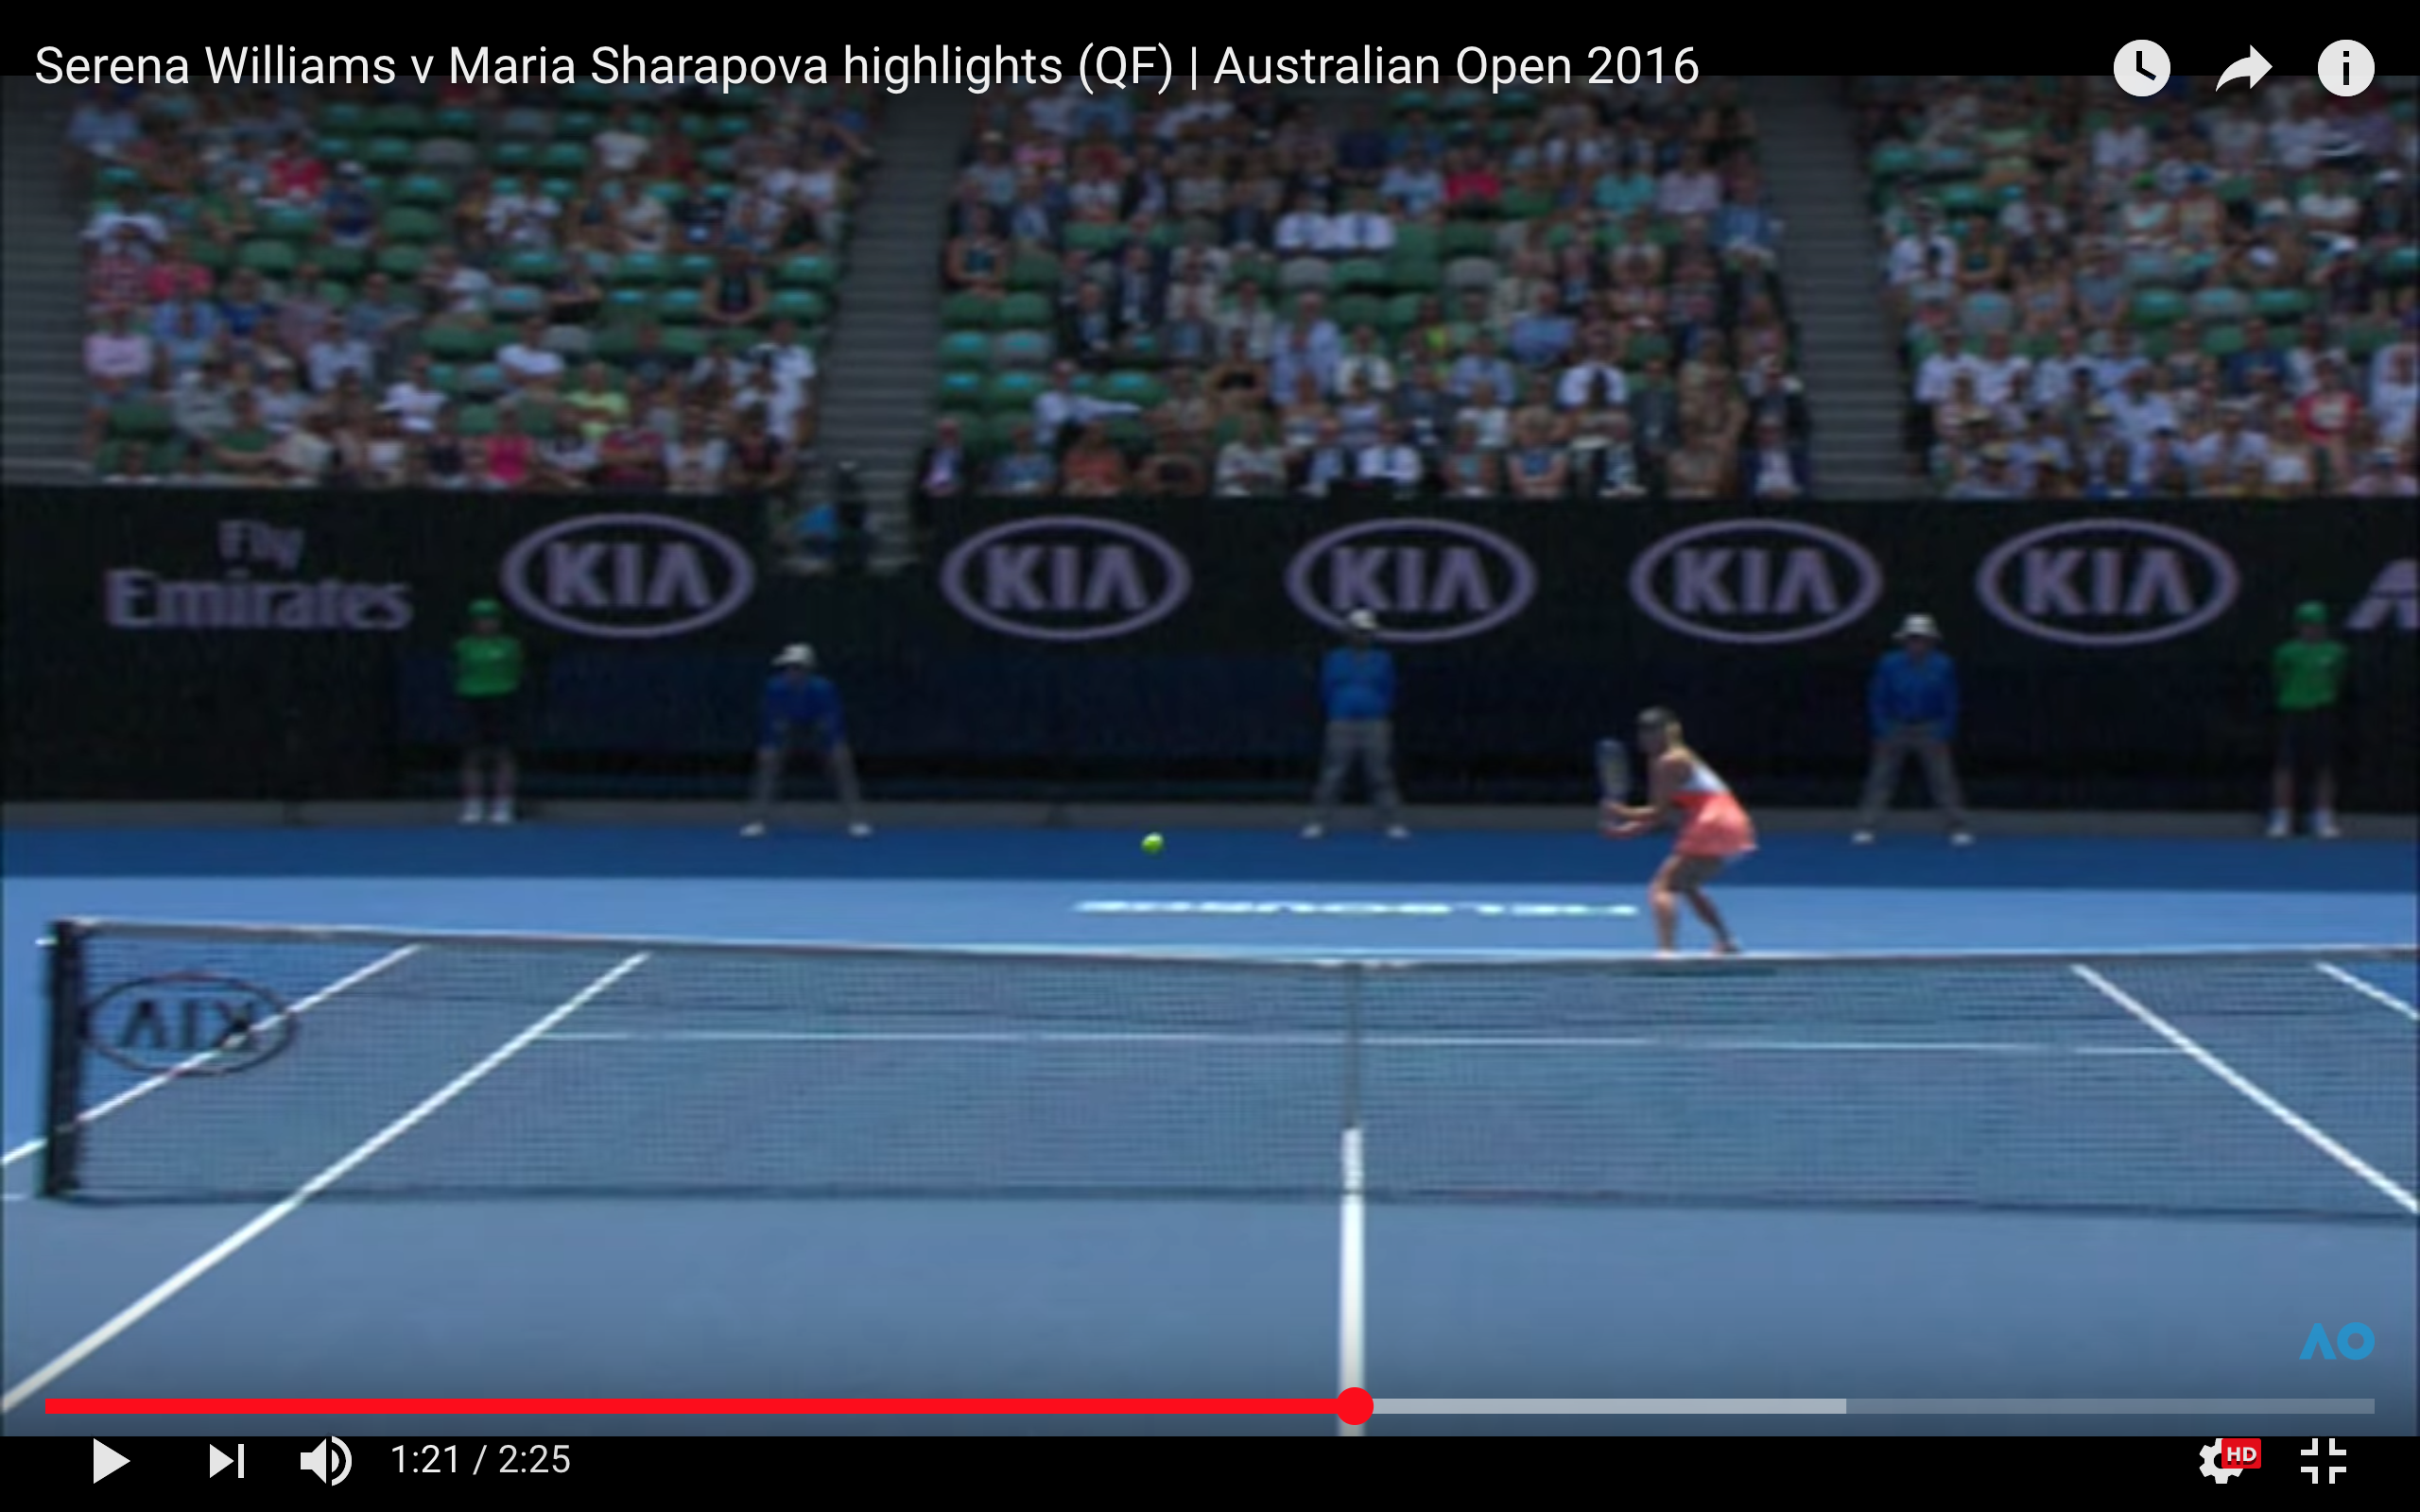tennis ball: (1134, 826, 1173, 861)
tennis player: (1578, 706, 1763, 948)
